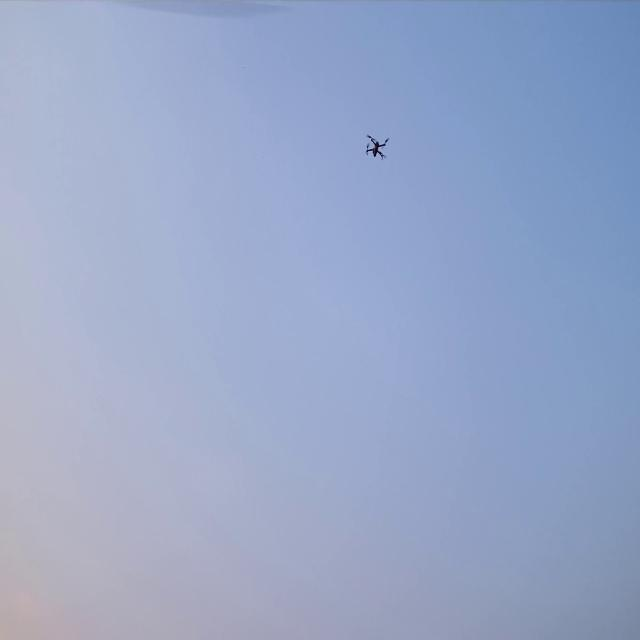UAV: (364, 132, 390, 162)
